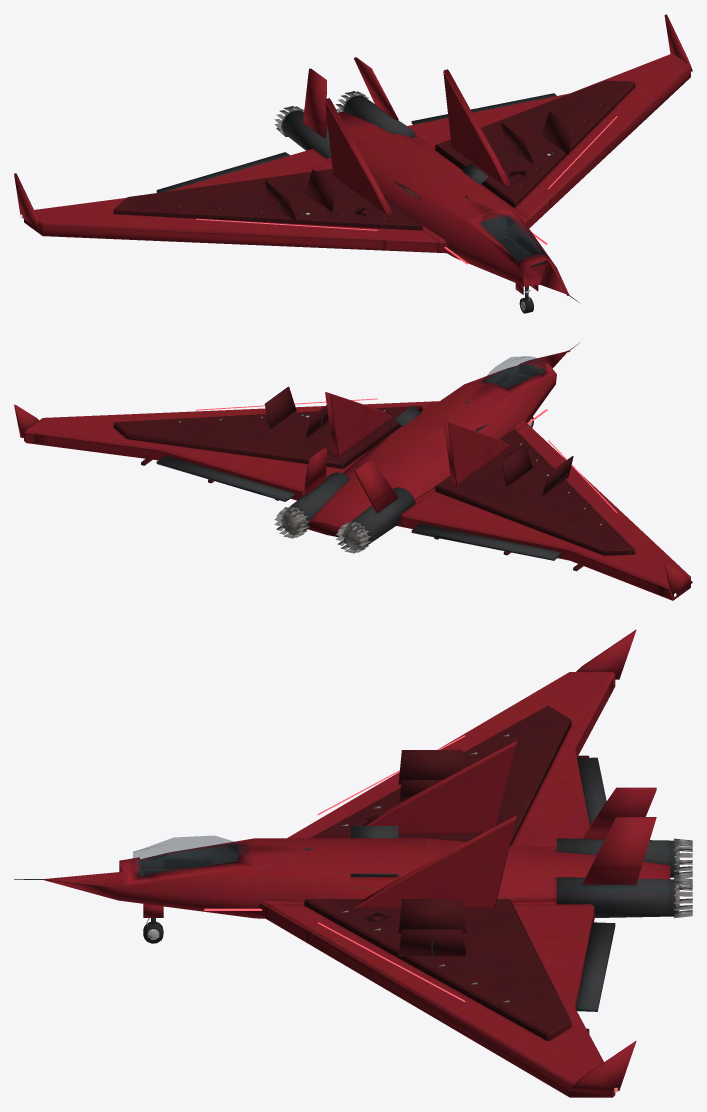
The model's file is CRA1_specter_vtol_lod1.glb.
3 views of the same model, one above another, from view 1: azimuth 30°, elevation 25°; view 2: azimuth 150°, elevation 25°; view 3: azimuth 270°, elevation 25° (orthographic). The views are drawn at different scales.
Visible parts, largest first — view 1: CRA1_specter_vtol_LOD1; view 2: CRA1_specter_vtol_LOD1; view 3: CRA1_specter_vtol_LOD1.
Boxes of the visible parts, x1,y1,x2,y2 form: CRA1_specter_vtol_LOD1: (14,14,692,313); CRA1_specter_vtol_LOD1: (14,342,692,600); CRA1_specter_vtol_LOD1: (14,629,692,1097).
Bounding box in the file's own units: 28.9 × 5.32 × 19.96.
8 materials, 5 textured.
